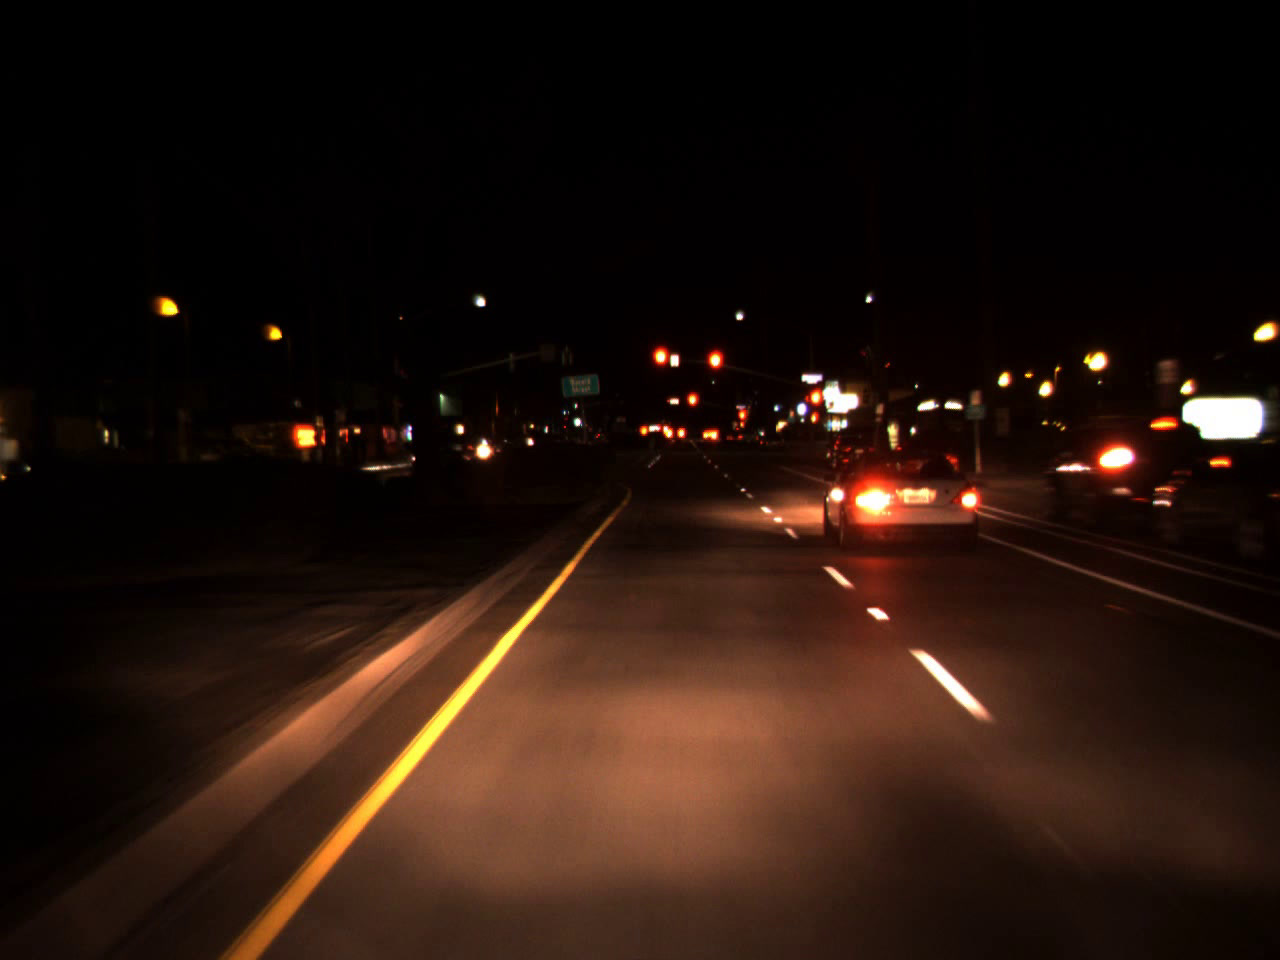stop: (650, 343, 672, 388), (705, 348, 724, 391), (806, 386, 825, 426), (685, 391, 700, 423), (737, 405, 747, 437)
